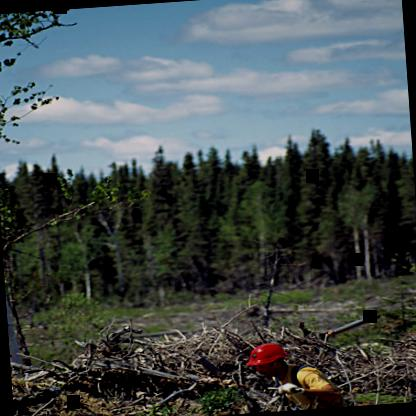helmet: (246, 340, 290, 380)
